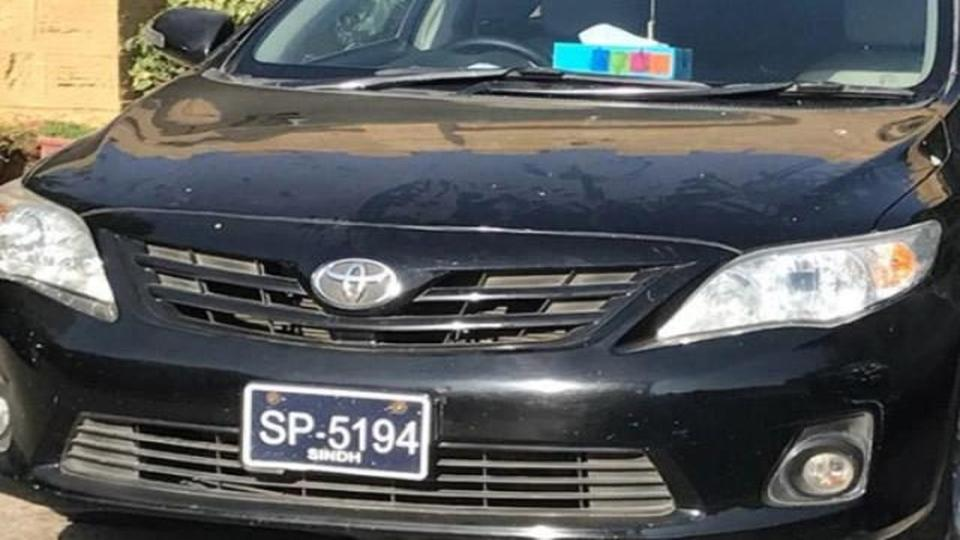NumberPlate: (234, 378, 435, 481)
